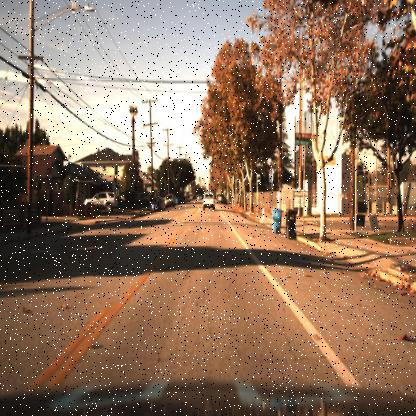car: (83, 188, 117, 214), (201, 190, 216, 211), (149, 194, 165, 212), (163, 192, 175, 210)
